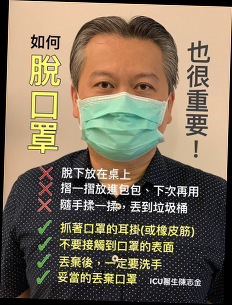with_mask: (76, 68, 167, 163)
